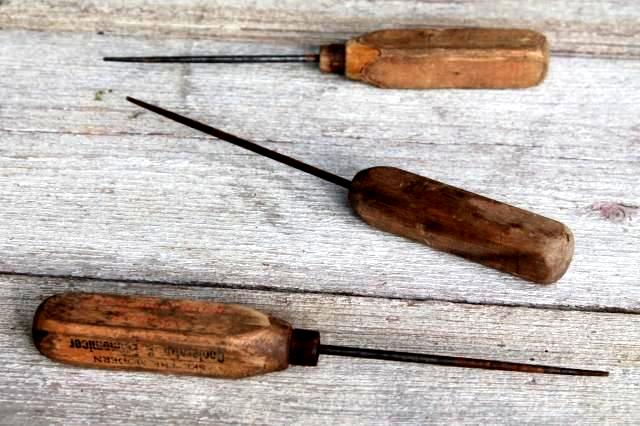ice pick: (127, 96, 575, 286), (34, 292, 610, 380), (102, 25, 550, 90)
